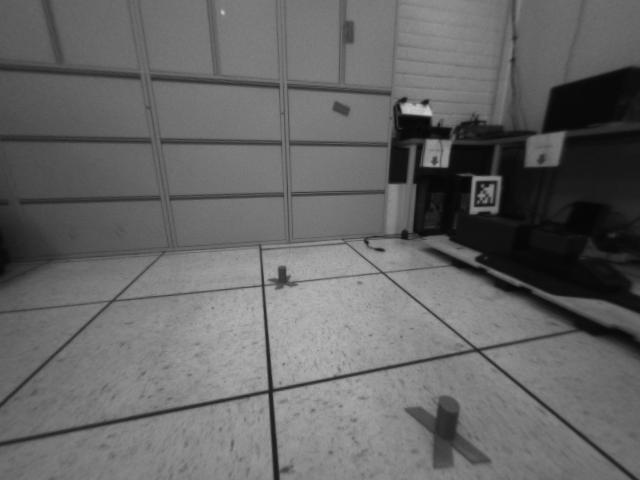X: (404, 396, 490, 470), (266, 264, 301, 291)
